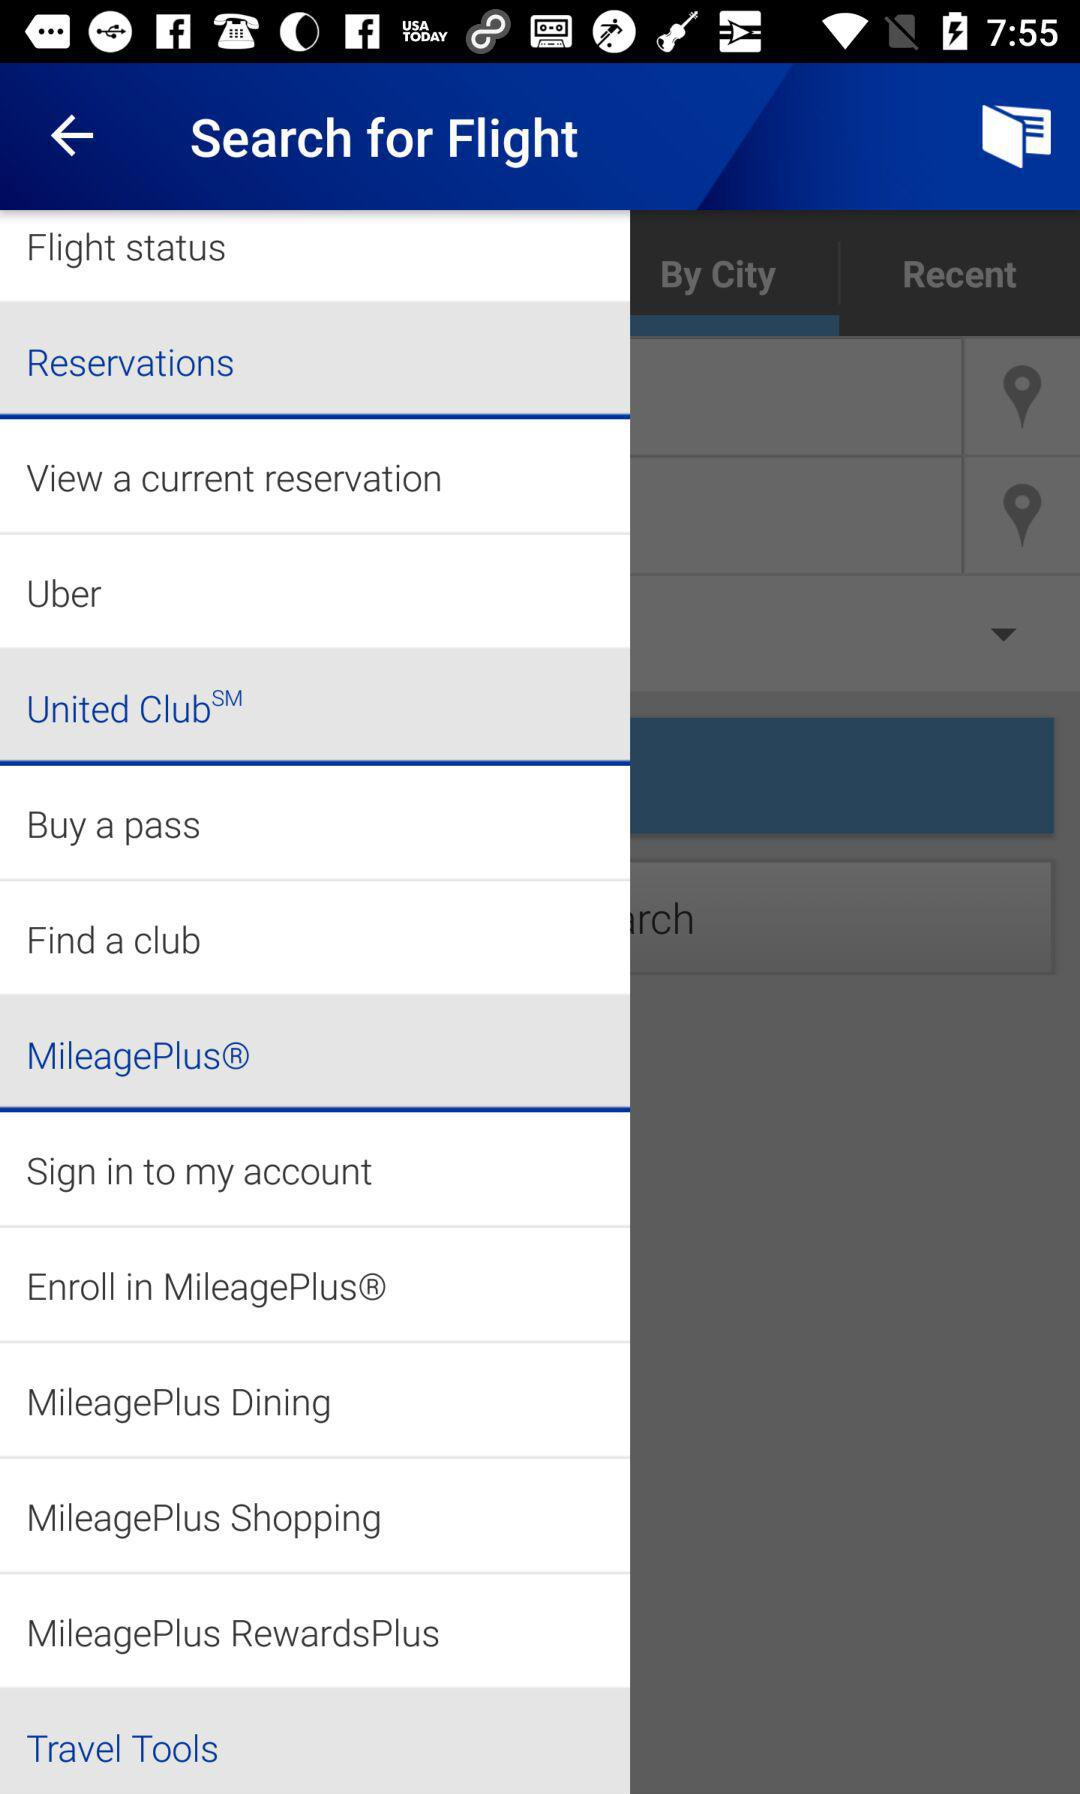Drawer: (1, 210, 632, 1794)
Icon: (981, 105, 1053, 170), (51, 114, 95, 159)
Text: (191, 117, 580, 170), (29, 1617, 439, 1656), (29, 1271, 387, 1310), (29, 1502, 380, 1540), (27, 1157, 374, 1194), (26, 464, 442, 495), (29, 1387, 331, 1425), (29, 1039, 251, 1078), (28, 231, 227, 270), (28, 689, 243, 725), (29, 810, 201, 848), (29, 349, 234, 379), (26, 1732, 219, 1765), (29, 924, 201, 956), (29, 578, 102, 610)
Toolbar: (1, 64, 1080, 210)
UpperTaskBar: (1, 1, 1080, 64)
